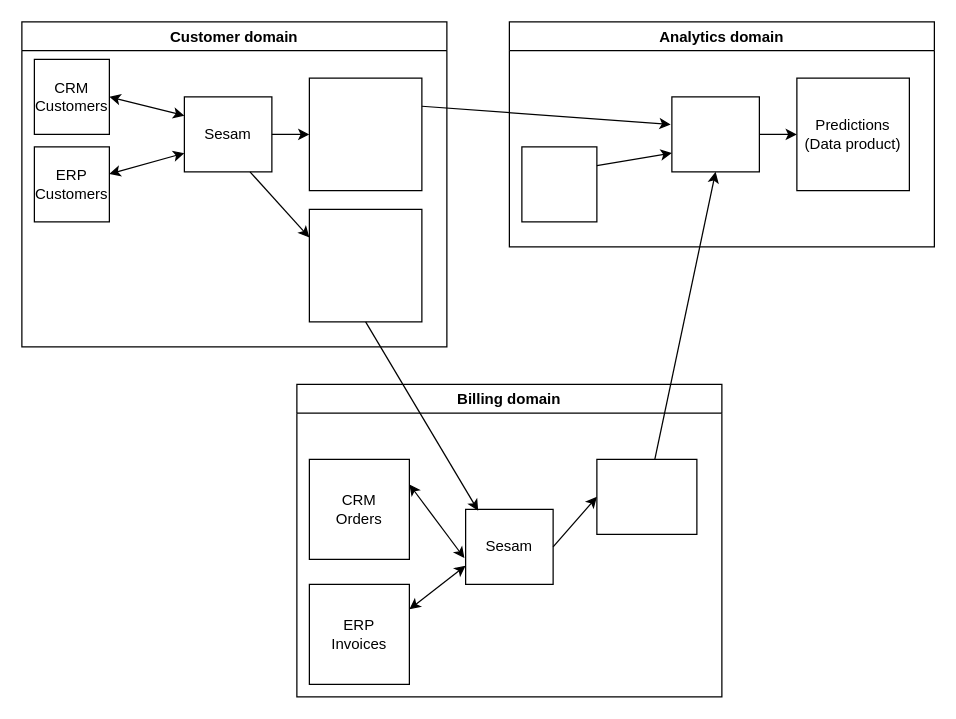
Some shapes in this 956 by 719 pixel diagram are drawn without their labels. Here are the shapes that lost their labels. From the top down, the centre of each, then its label:
pixel 365 134: Customers (Data product)
pixel 715 134: Analytics engine
pixel 559 184: ERP Statistics
pixel 365 265: Billable customers (Data product)
pixel 646 496: Sales (Data product)
